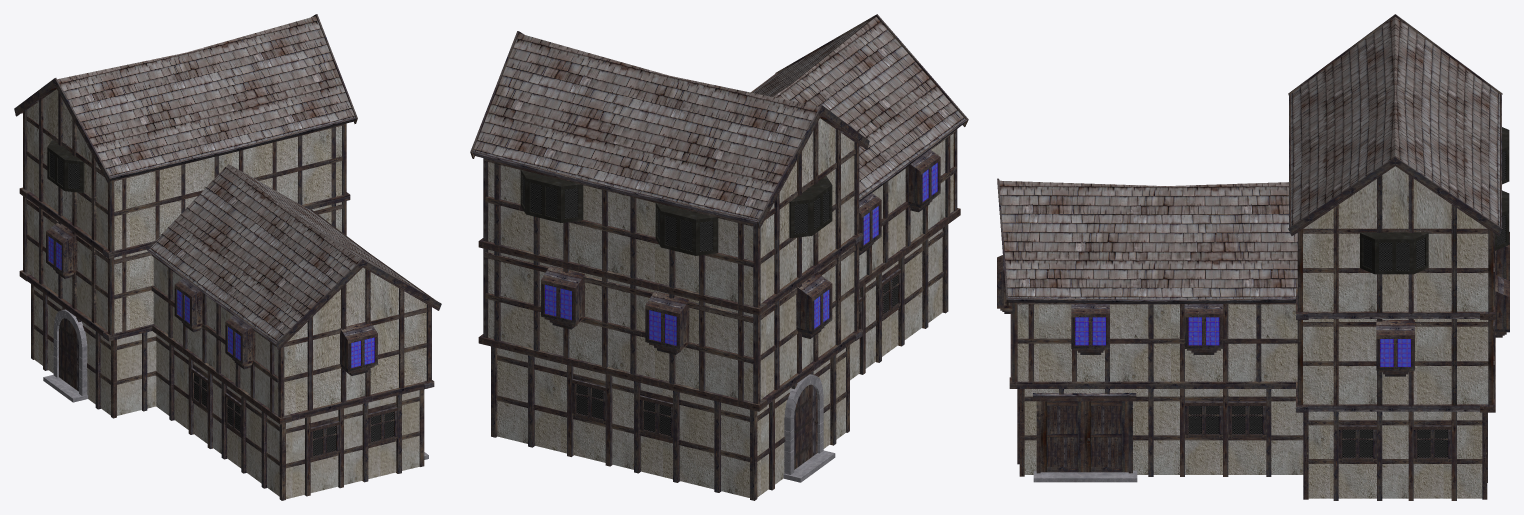
File: thouse02.dae
The picture shows the model from 3 angles, left to right: view 1: azimuth 30°, elevation 25°; view 2: azimuth 150°, elevation 25°; view 3: azimuth 270°, elevation 25°; orthographic projection. The views are drawn at different scales.
Parts seen in each view (by area): view 1: House2_Roof, House1_Roof, House1_Level2, House2_Level3, House1_Level1, House1_Level1_Beams, House2_Level3_Beams, House1_Level2_Beams, House2_Level2, House2_Level1, House2_Level2_Beams, House2_Level1_Beams (+19 smaller); view 2: House2_Roof, House2_Level3, House2_Level2, House2_Level1, House1_Roof, House2_Level2_Beams, House2_Level1_Beams, House2_Level3_Beams, House1_Level1, House2_Level2_SeperatorBeams, House2_Level1_SeperatorBeams, House1_Level2 (+25 smaller); view 3: House1_Roof, House2_Roof, House2_Level3, House1_Level2, House2_Level2, House1_Level1, House2_Level1, House2_Level3_Beams, House2_Level1_Beams, House1_Level1_Beams, House1_Level2_Beams, House2_Level2_Beams (+26 smaller).
Part boxes in pixels (bbox=[...]): House2_Roof: bbox=[57, 16, 354, 176]; House1_Roof: bbox=[149, 164, 425, 342]; House1_Level2: bbox=[153, 257, 426, 415]; House2_Level3: bbox=[27, 89, 341, 250]; House1_Level1: bbox=[156, 334, 419, 499]; House1_Level1_Beams: bbox=[155, 336, 424, 500]; House2_Level3_Beams: bbox=[23, 92, 346, 251]; House1_Level2_Beams: bbox=[151, 255, 431, 417]; House2_Level2: bbox=[27, 199, 341, 333]; House2_Level1: bbox=[34, 286, 156, 415]; House2_Level2_Beams: bbox=[23, 196, 346, 334]; House2_Level1_Beams: bbox=[31, 284, 155, 418]; House2_Roof: bbox=[473, 33, 819, 220]; House2_Level3: bbox=[488, 118, 854, 305]; House2_Level2: bbox=[488, 246, 854, 402]; House2_Level1: bbox=[497, 348, 845, 497]; House1_Roof: bbox=[752, 17, 965, 197]; House2_Level2_Beams: bbox=[483, 243, 859, 403]; House2_Level1_Beams: bbox=[491, 345, 849, 500]; House2_Level3_Beams: bbox=[483, 122, 859, 307]; House1_Level1: bbox=[850, 228, 942, 380]; House2_Level2_SeperatorBeams: bbox=[478, 233, 862, 315]; House2_Level1_SeperatorBeams: bbox=[478, 329, 862, 411]; House1_Level2: bbox=[859, 133, 953, 279]; House1_Roof: bbox=[999, 180, 1297, 299]; House2_Roof: bbox=[1291, 17, 1499, 226]; House2_Level3: bbox=[1303, 166, 1488, 311]; House1_Level2: bbox=[1017, 304, 1297, 381]; House2_Level2: bbox=[1303, 319, 1488, 404]; House1_Level1: bbox=[1024, 389, 1303, 474]; House2_Level1: bbox=[1308, 411, 1482, 498]; House2_Level3_Beams: bbox=[1297, 175, 1494, 312]; House2_Level1_Beams: bbox=[1303, 411, 1487, 500]; House1_Level1_Beams: bbox=[1017, 389, 1303, 476]; House1_Level2_Beams: bbox=[1012, 302, 1297, 381]; House2_Level2_Beams: bbox=[1297, 319, 1495, 405].
Size of the model in its own units: 8.78 by 13.25 by 10.07.
19 materials, 19 textured.
